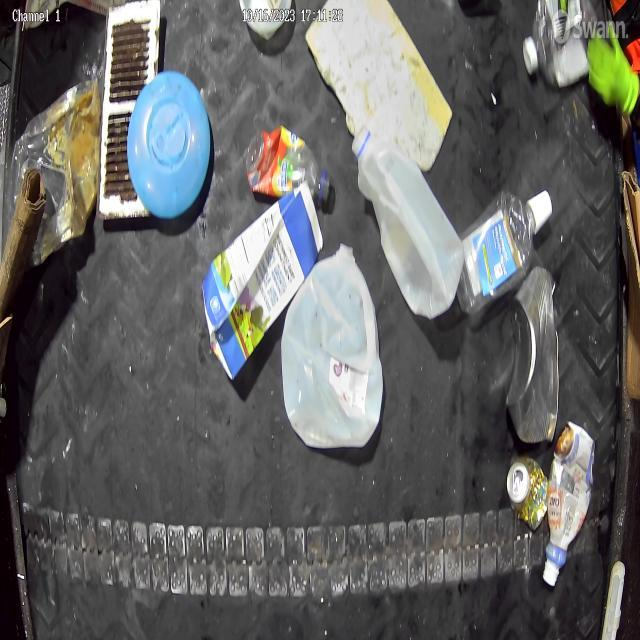can: (506, 450, 546, 532)
milk_jug: (352, 124, 465, 322), (279, 235, 382, 440)
